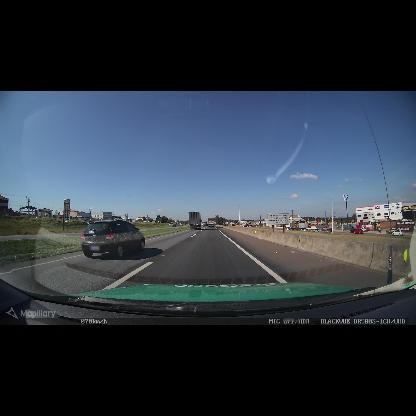I-SA: (267, 213, 289, 225)
